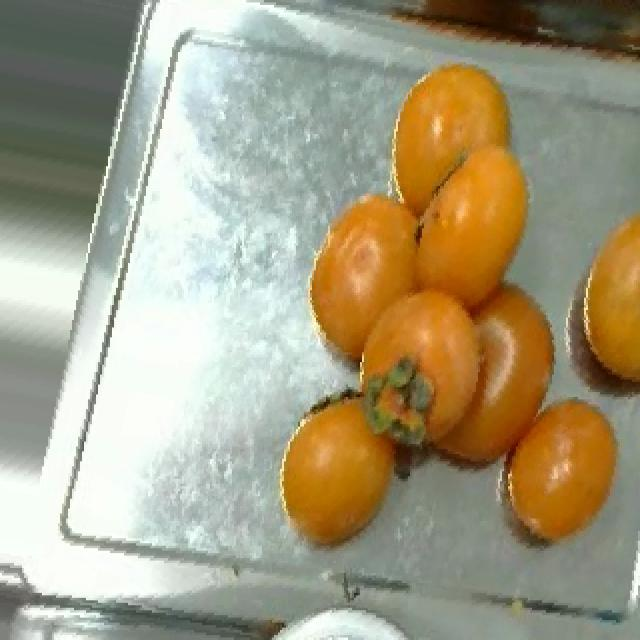Fruit: (478, 375, 640, 573), (372, 39, 538, 226), (262, 382, 422, 576), (562, 191, 640, 387)
